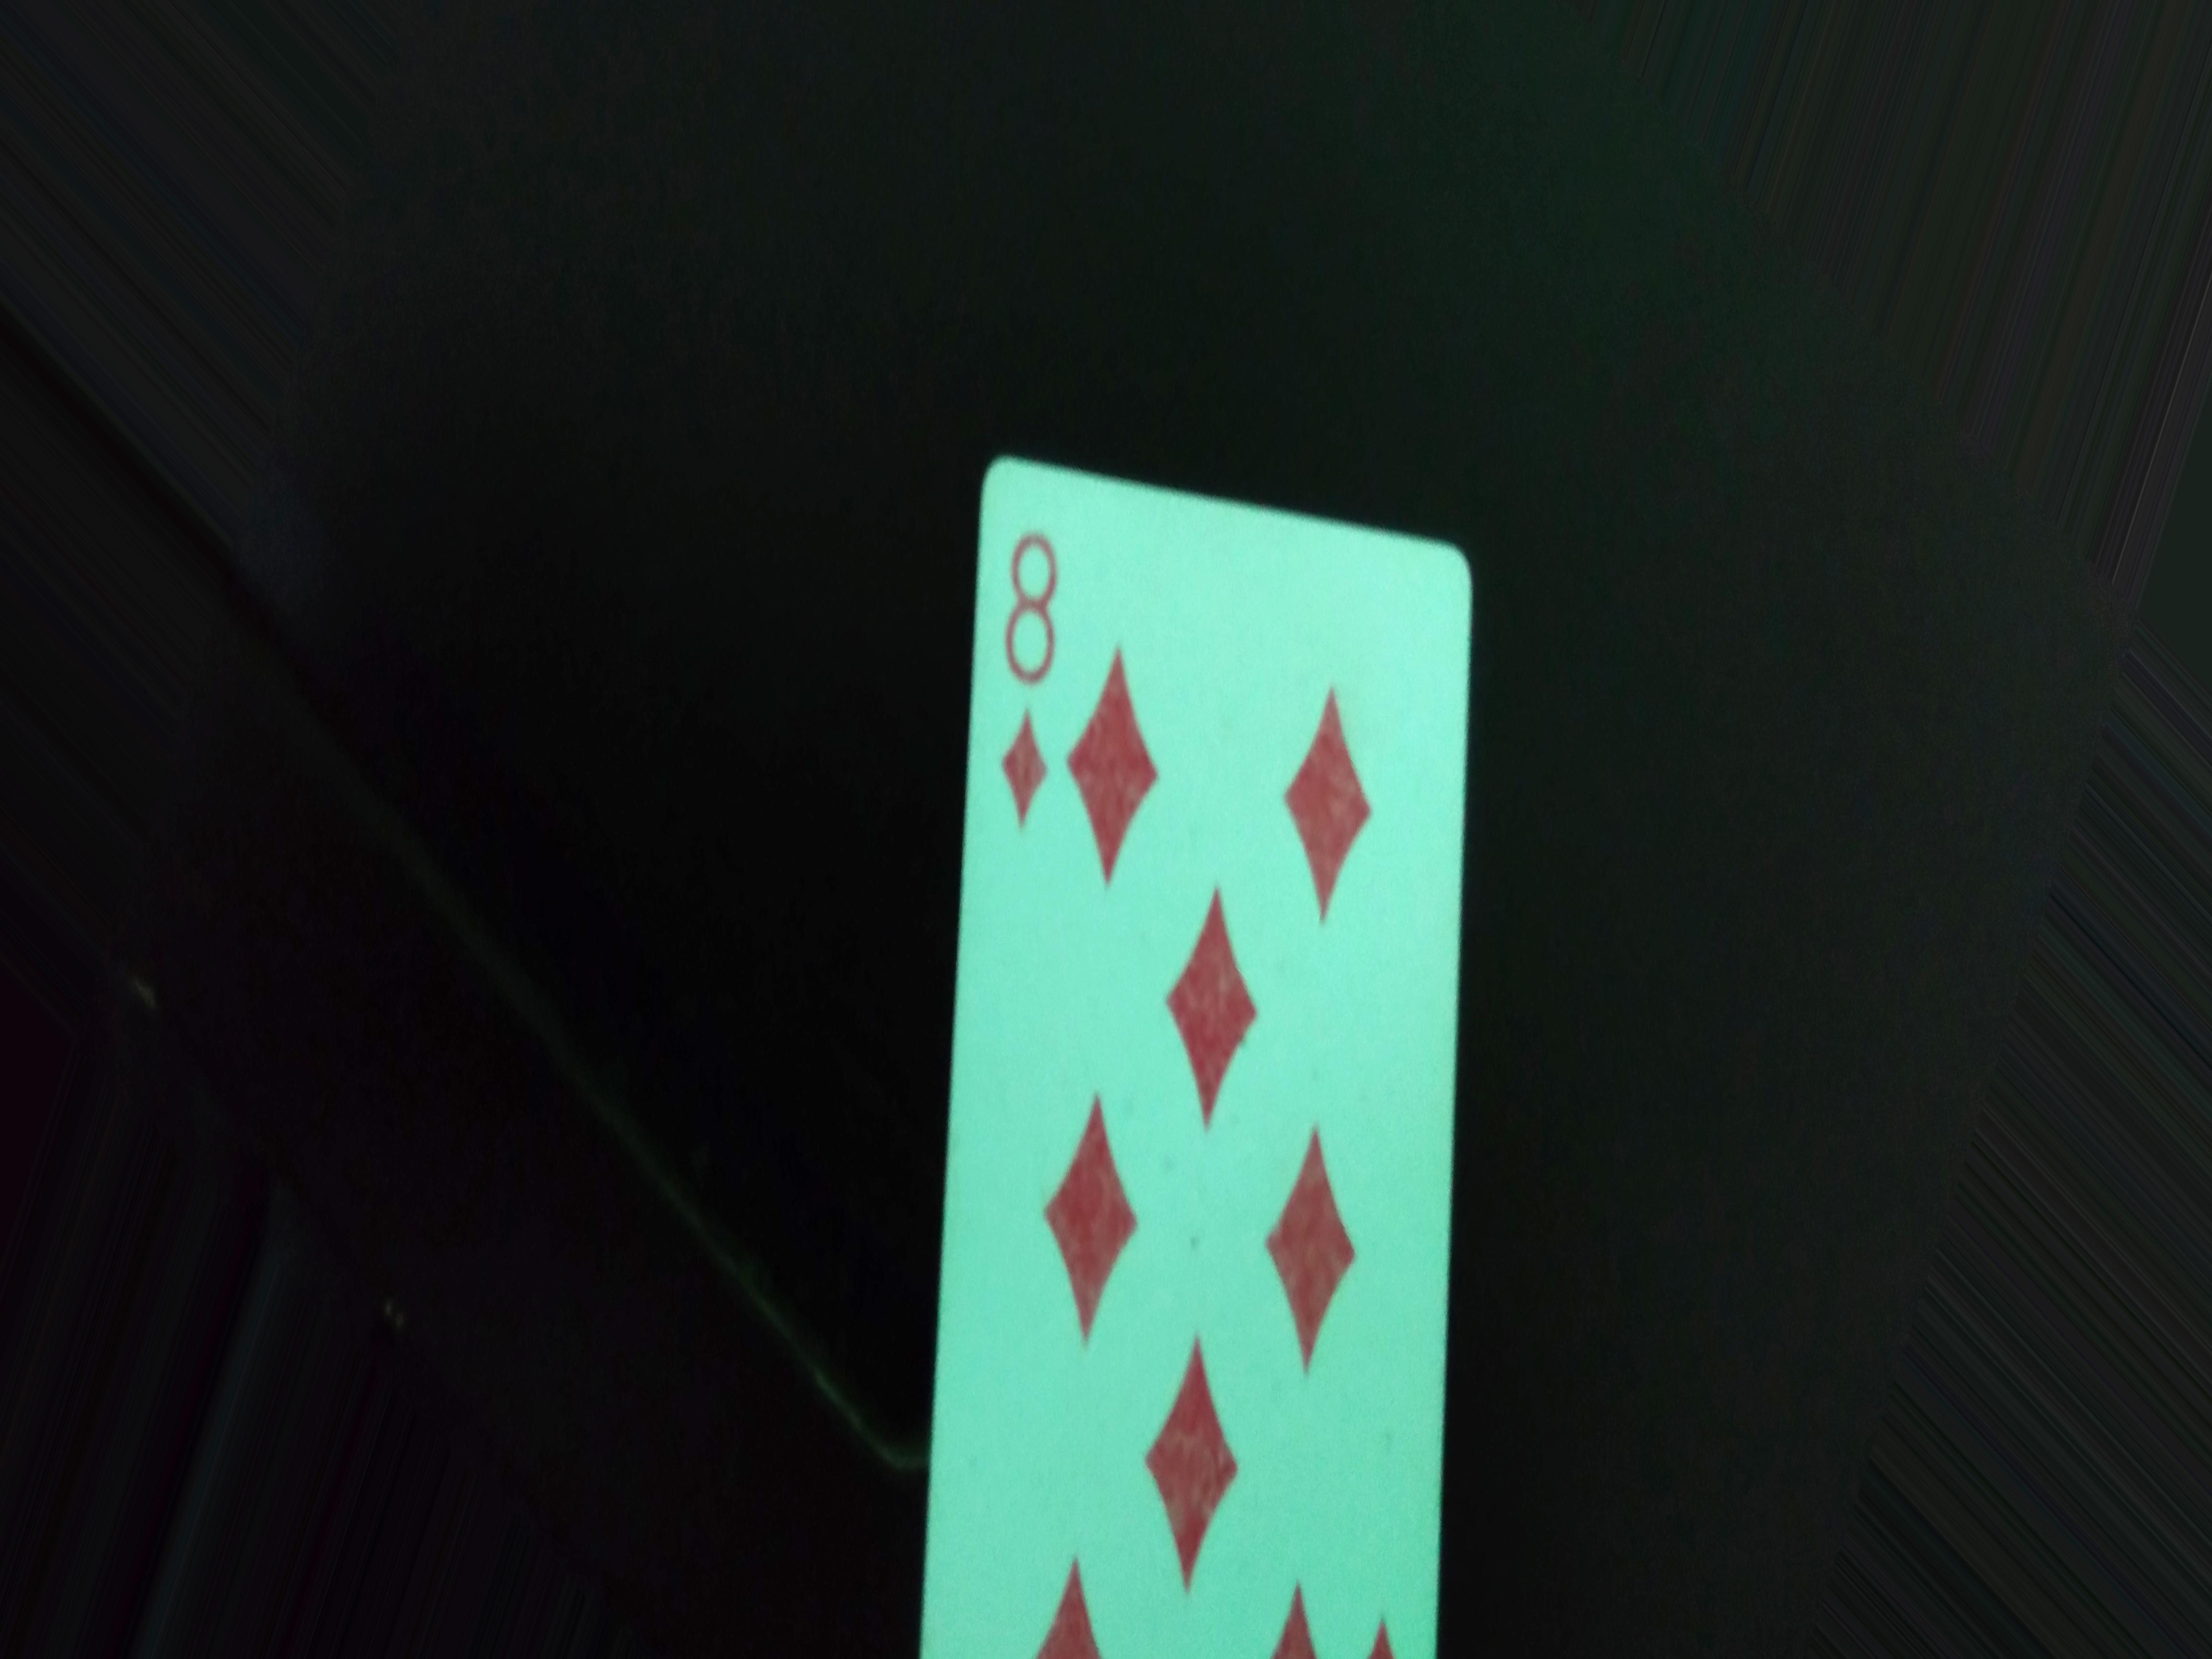8D: (1008, 495, 1068, 856)
